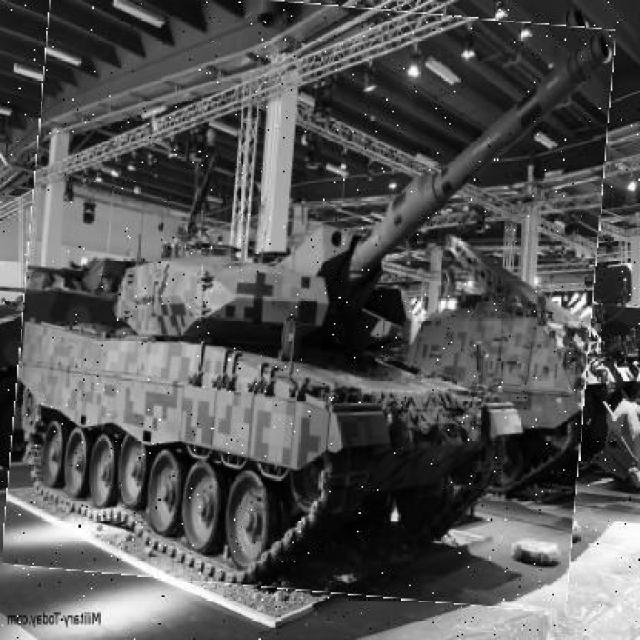Tank: (12, 1, 604, 603)
